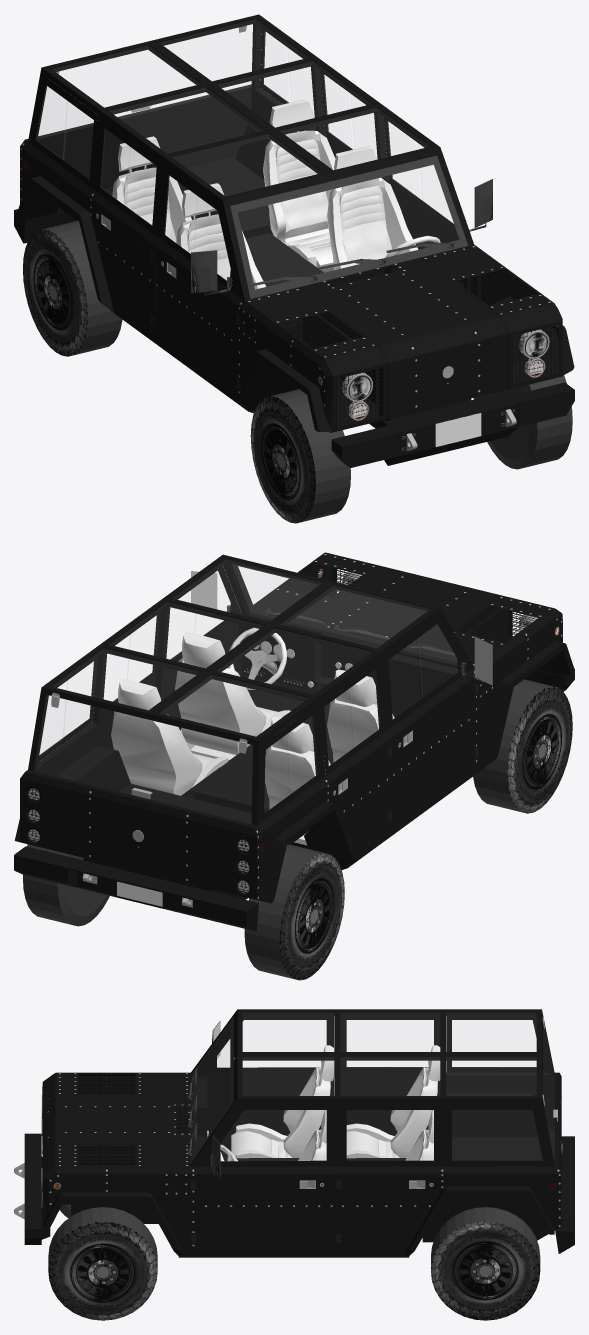
The model's file is bollinger-motors-b1-583bbb.glb.
The picture shows the model from 3 angles, top to bottom: view 1: azimuth 30°, elevation 25°; view 2: azimuth 150°, elevation 25°; view 3: azimuth 270°, elevation 25°; orthographic projection. The views are drawn at different scales.
Parts seen in each view (by area): view 1: body, wheel-front-right, wheel-back-right, wheel-front-left; view 2: body, wheel-back-right, wheel-front-right, wheel-back-left; view 3: body, wheel-front-left, wheel-back-left.
Boxes of the visible parts, bbox=[...] form: body: bbox=[14, 14, 574, 467]; wheel-front-right: bbox=[250, 389, 350, 523]; wheel-back-right: bbox=[23, 220, 122, 356]; wheel-front-left: bbox=[473, 375, 572, 469]; body: bbox=[14, 552, 574, 931]; wheel-back-right: bbox=[244, 844, 344, 980]; wheel-front-right: bbox=[473, 679, 572, 813]; wheel-back-left: bbox=[23, 844, 109, 926]; body: bbox=[14, 1009, 574, 1257]; wheel-front-left: bbox=[48, 1207, 157, 1320]; wheel-back-left: bbox=[431, 1207, 540, 1320].
Size of the model in its own units: 1.77 by 1.43 by 3.38.
12 materials, 5 textured.
